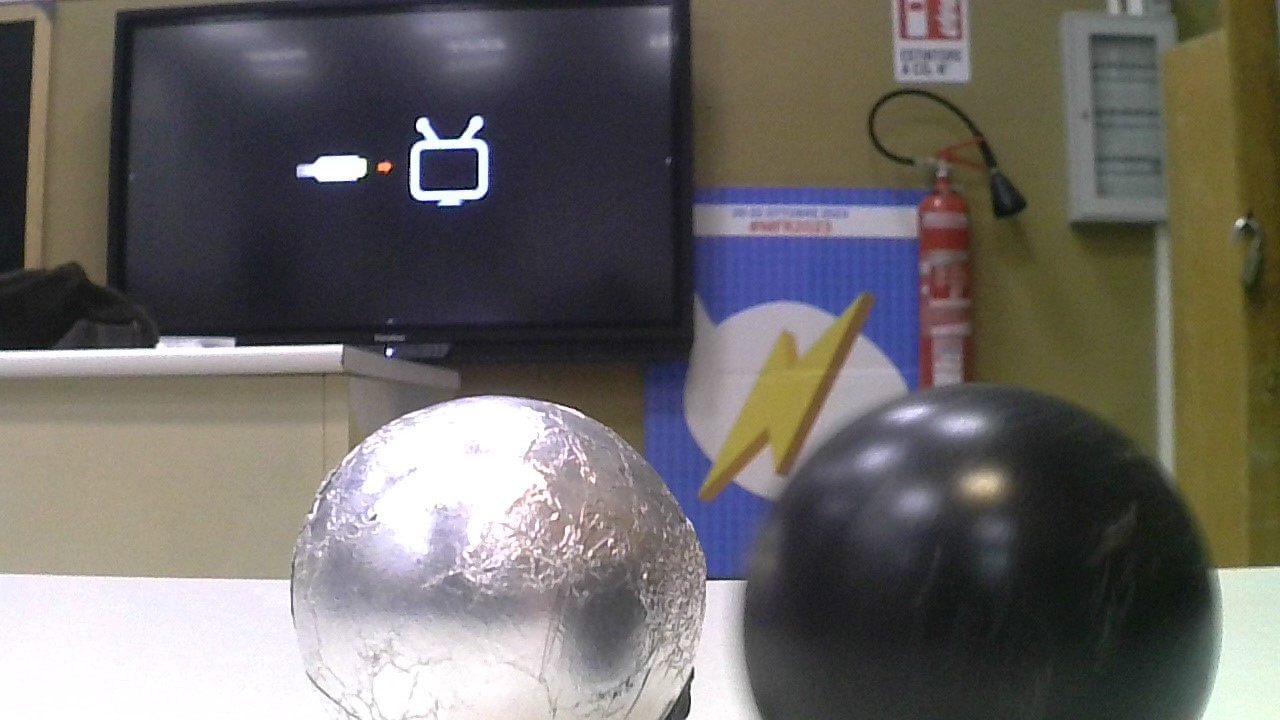black_ball: (735, 382, 1231, 720)
silver_ball: (262, 392, 709, 720)
